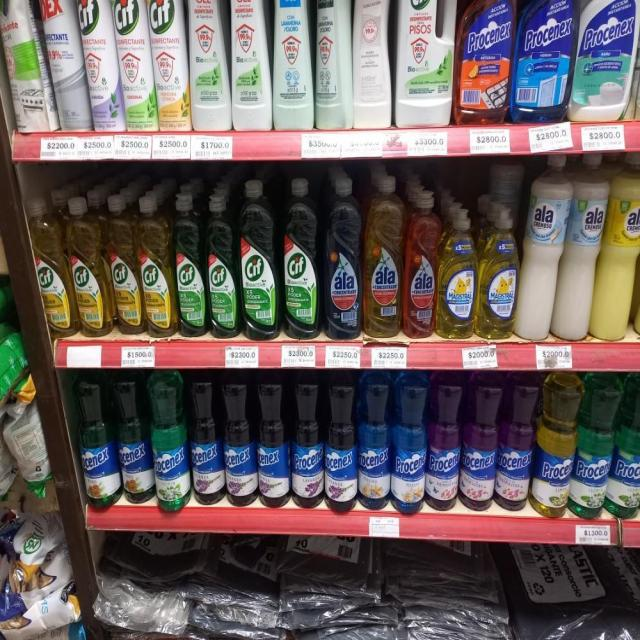ala_conc_amarillo: (364, 173, 403, 339)
ala_conc_azul: (323, 175, 362, 339)
ala_conc_rojo: (404, 188, 437, 339)
ala_crem_blanco: (520, 153, 566, 342)
cif_conc_bot_amarilla: (30, 195, 69, 339), (71, 195, 106, 338), (140, 192, 173, 338), (108, 192, 140, 336)
cif_conc_botella_verde: (282, 177, 321, 340), (240, 179, 278, 341), (206, 188, 238, 339), (174, 190, 205, 339)
magistral_con_amarillo: (479, 204, 518, 340), (438, 205, 476, 339)
